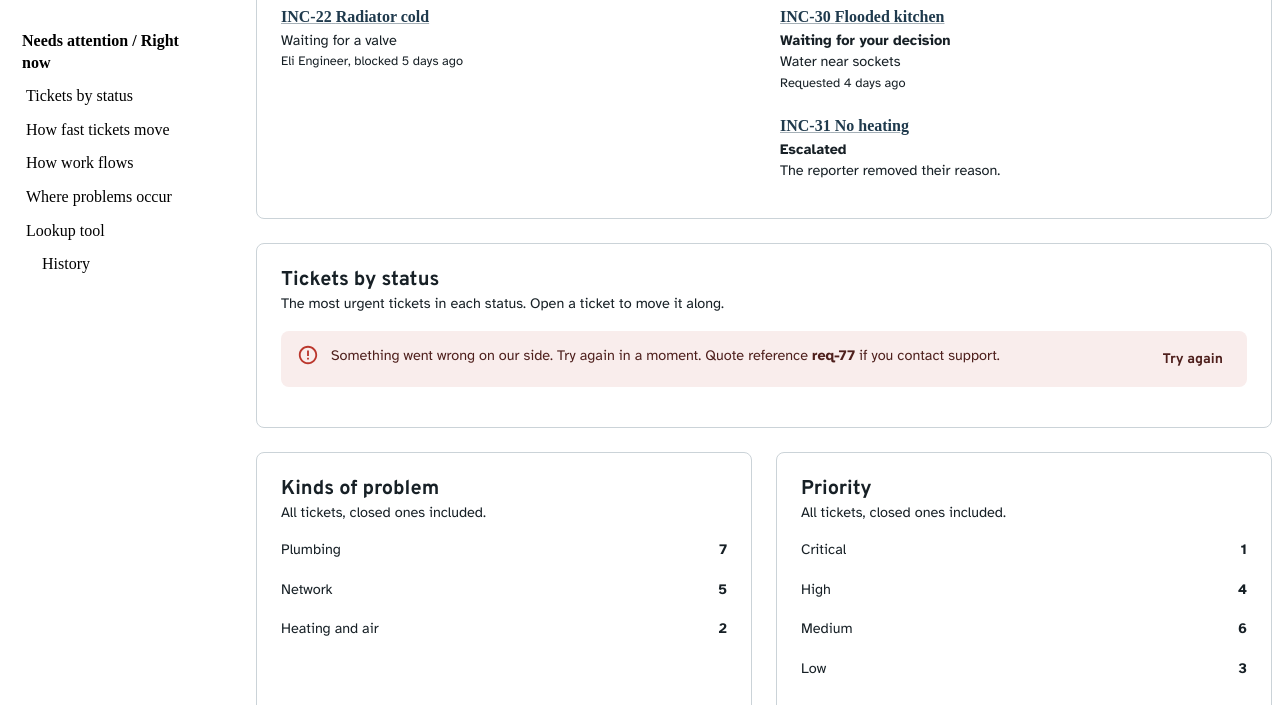
Scenario: DashboardPage for an admin › shows a failed report with its reference and a retry, without blanking the rest
(page scrolled)
Expected: the message shows "Quote reference req-77", [281, 331, 1247, 387]
Click the button "Try again". click: (1193, 361)
box: [1146, 341, 1239, 381]
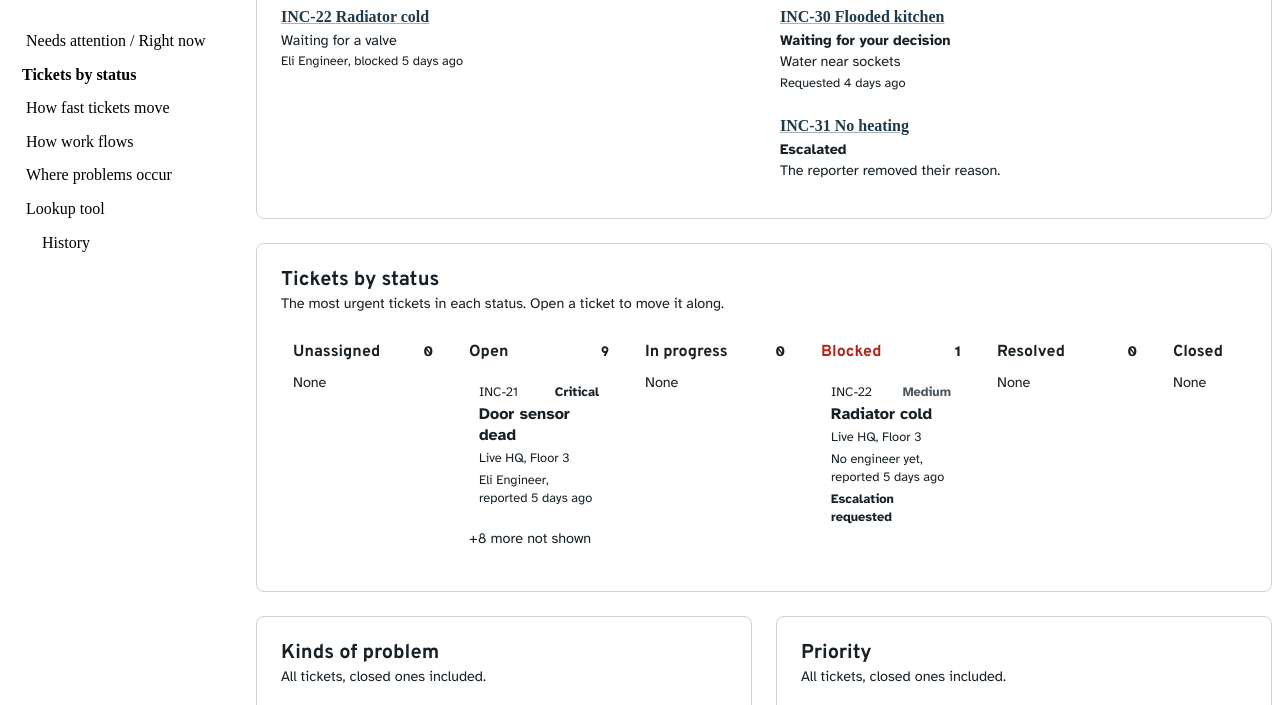
Expected: the element "Open" is shown, [457, 331, 621, 559]
